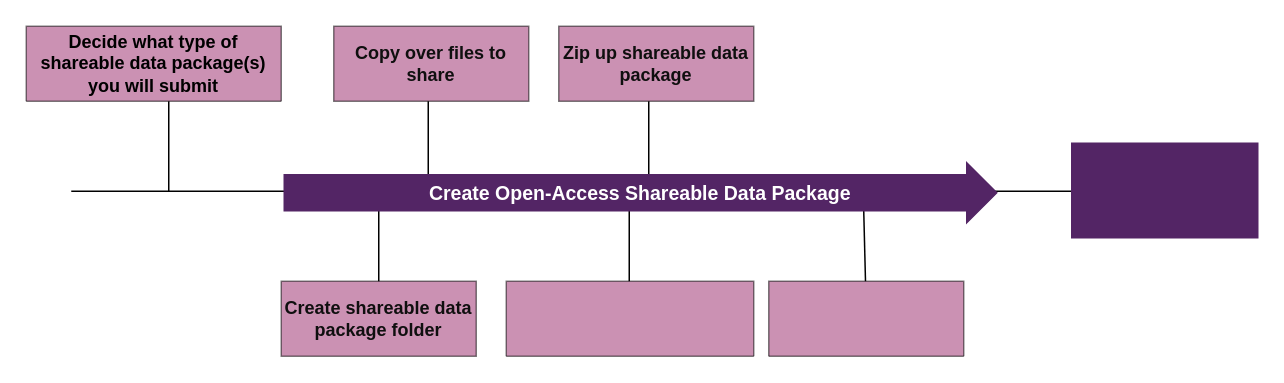
Some shapes in this 1284 by 383 pixel diagram are drawn without their labels. Here are the shapes that lost their labels. From the top down, the centre of each, then its label:
At (x=1164, y=190): "Upload Shareable Data Package to Repository".
At (x=629, y=318): "Prepare and copy over standard data package metadata".
At (x=865, y=318): "Create additional submission files".
